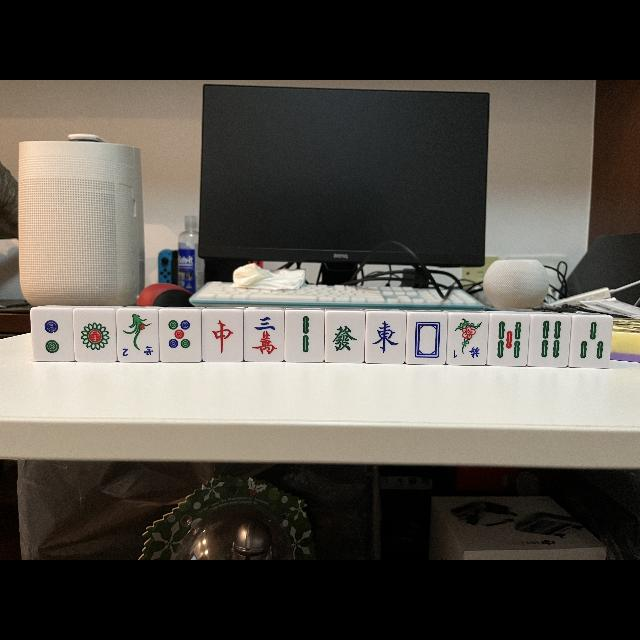b2: (286, 312, 324, 362)
b3: (570, 316, 610, 368)
b4: (530, 316, 570, 366)
b5: (488, 314, 528, 366)
c3: (244, 310, 284, 362)
d1: (74, 308, 116, 362)
d2: (31, 309, 74, 361)
d5: (160, 308, 200, 362)
dg: (325, 312, 363, 362)
dr: (202, 310, 244, 362)
dw: (407, 312, 448, 364)
f1: (448, 344, 488, 364)
f2: (119, 342, 159, 362)
we: (366, 312, 406, 364)
